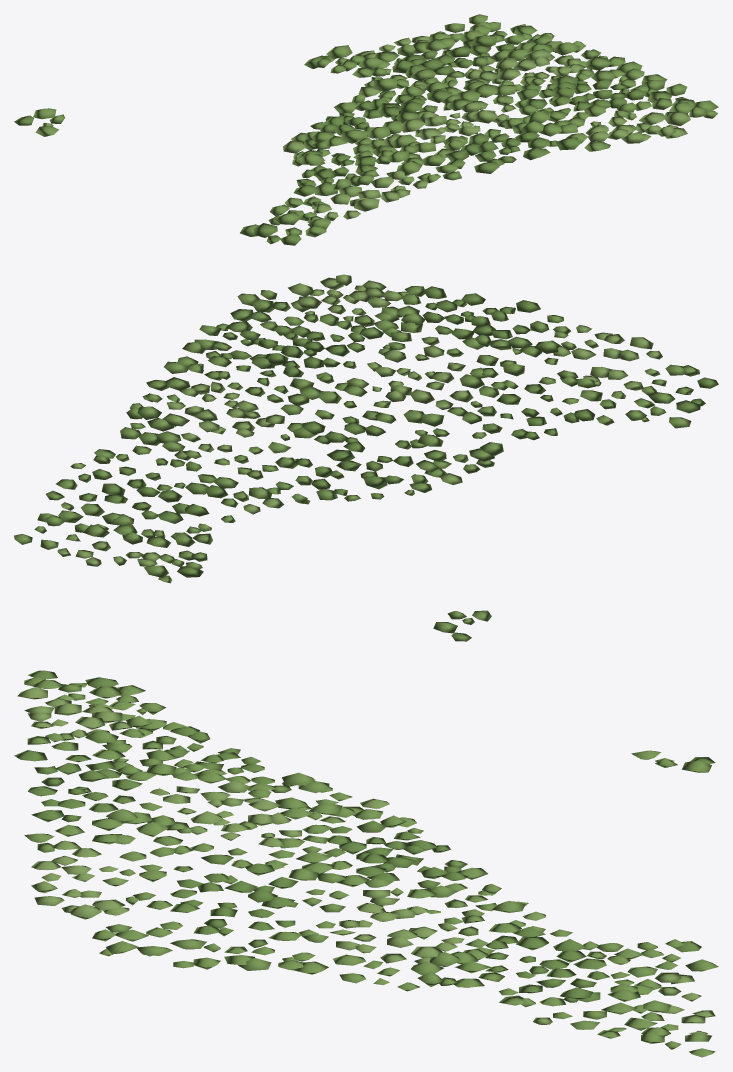
File: canopy-1-2--5.glb
The picture shows the model from 3 angles, top to bottom: view 1: azimuth 30°, elevation 25°; view 2: azimuth 150°, elevation 25°; view 3: azimuth 270°, elevation 25°; orthographic projection. The views are drawn at different scales.
Bounding box in the file's own units: 512 × 125 × 520.
1 material, 1 textured.
